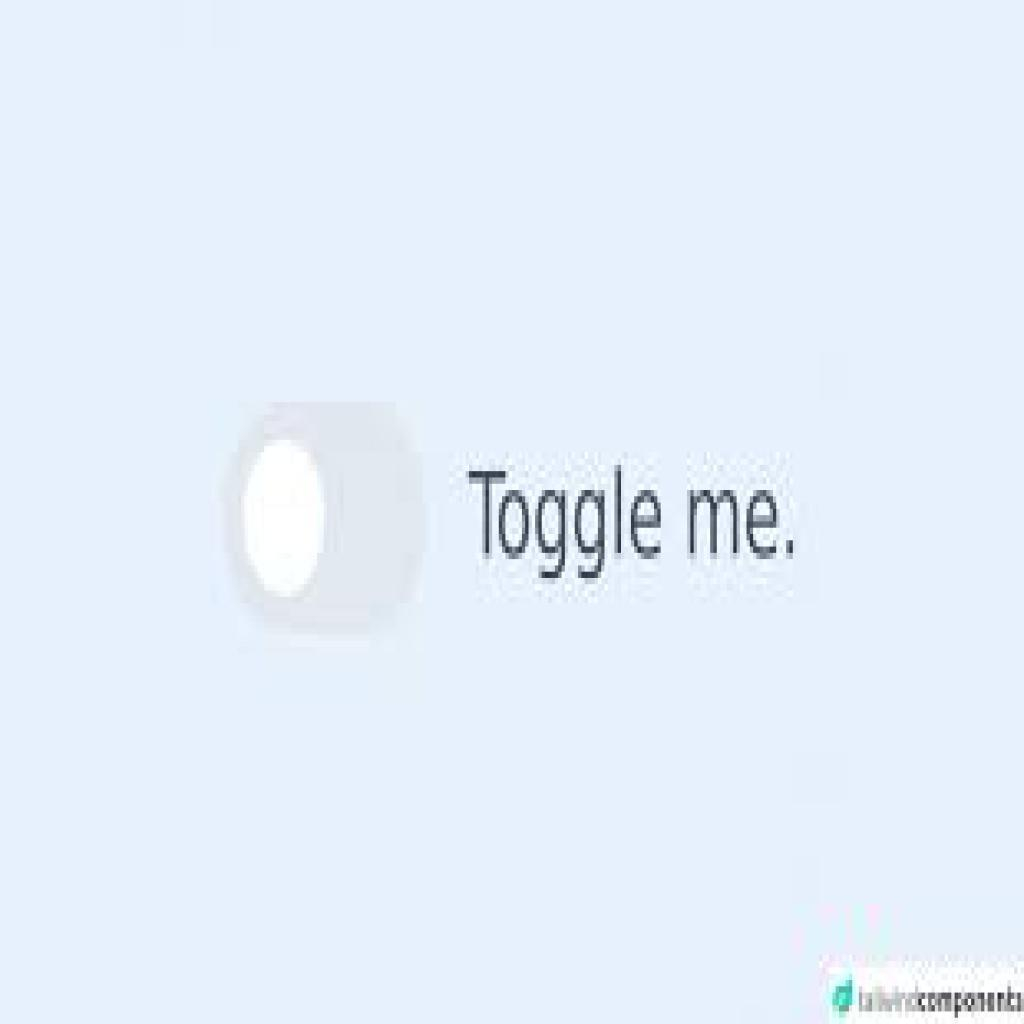switch: (216, 388, 445, 642)
